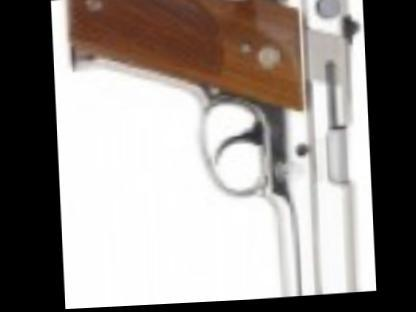pistol: (62, 0, 375, 308)
